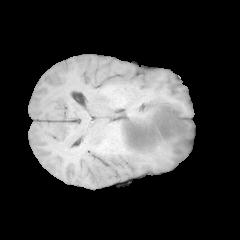glioma: (112, 101, 194, 162)
